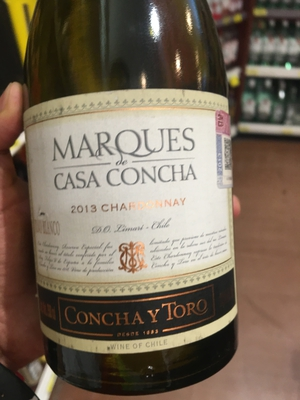marques de casa concha chardonnay: (19, 10, 262, 386)
